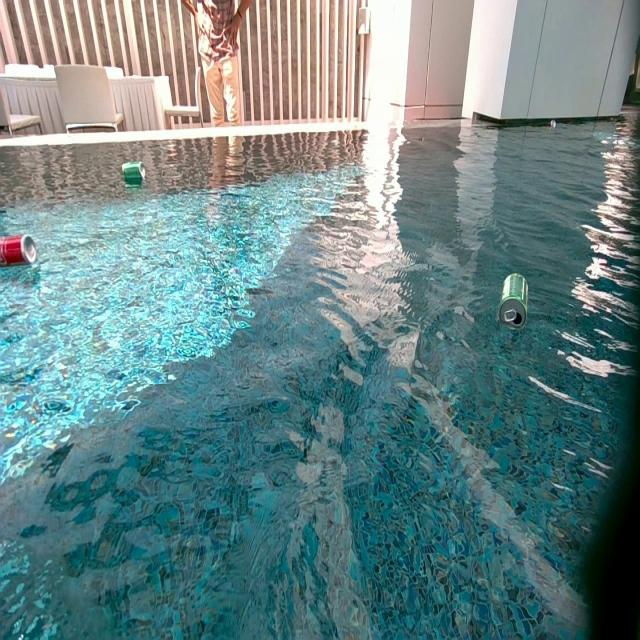Cans: (497, 272, 528, 332), (0, 234, 35, 267), (124, 163, 144, 183), (551, 120, 558, 128)
